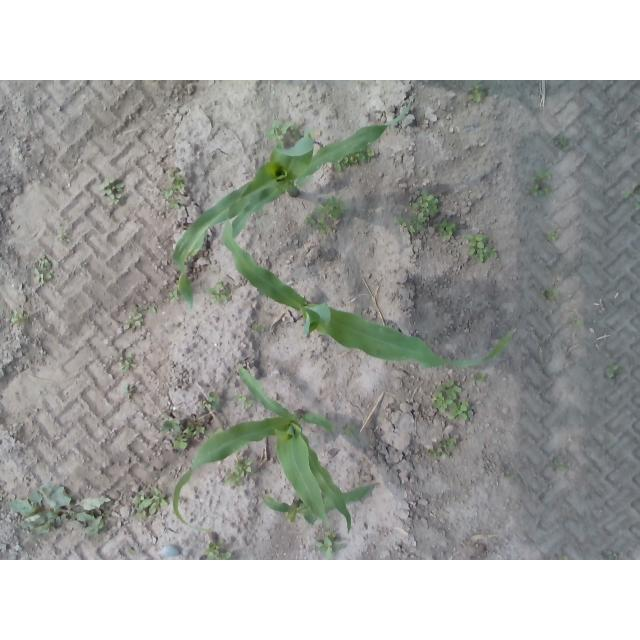Maize: (221, 209, 518, 372), (169, 108, 407, 308), (172, 368, 380, 532), (263, 483, 380, 525)
Weeds: (11, 488, 110, 536), (431, 381, 473, 426), (165, 417, 204, 448), (139, 487, 170, 513), (416, 195, 440, 224), (467, 233, 490, 263), (167, 169, 186, 197), (206, 537, 230, 559), (524, 178, 548, 198), (267, 119, 291, 138), (468, 84, 488, 104), (102, 180, 124, 198), (320, 200, 341, 218), (210, 286, 230, 304), (235, 455, 253, 473), (125, 314, 144, 331), (443, 434, 462, 450), (437, 220, 456, 236), (316, 539, 336, 554), (304, 215, 324, 229), (33, 270, 52, 283), (429, 445, 444, 459), (544, 289, 558, 304), (11, 309, 26, 323), (209, 396, 222, 411), (230, 470, 246, 482), (357, 151, 374, 162), (606, 363, 618, 377), (346, 421, 357, 436), (403, 221, 418, 232), (119, 355, 131, 368), (550, 228, 562, 241), (169, 288, 178, 304), (60, 233, 72, 244), (108, 196, 121, 206), (240, 395, 249, 409), (555, 135, 567, 145), (40, 255, 49, 266)
